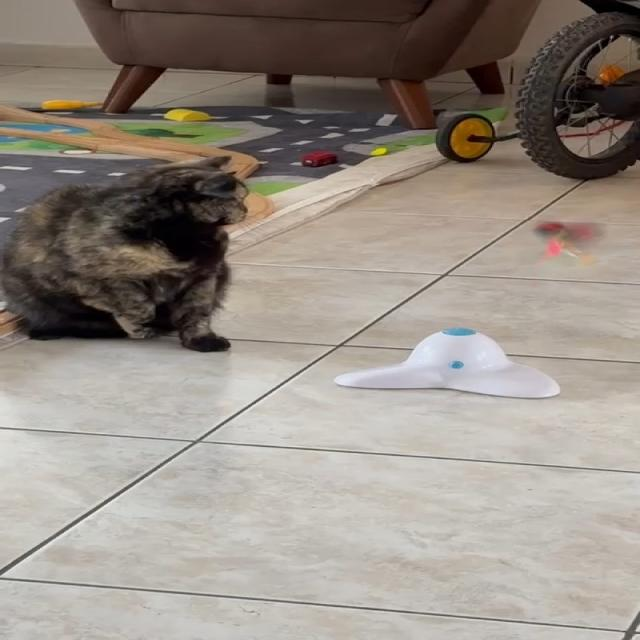authorized: (0, 153, 249, 352)
